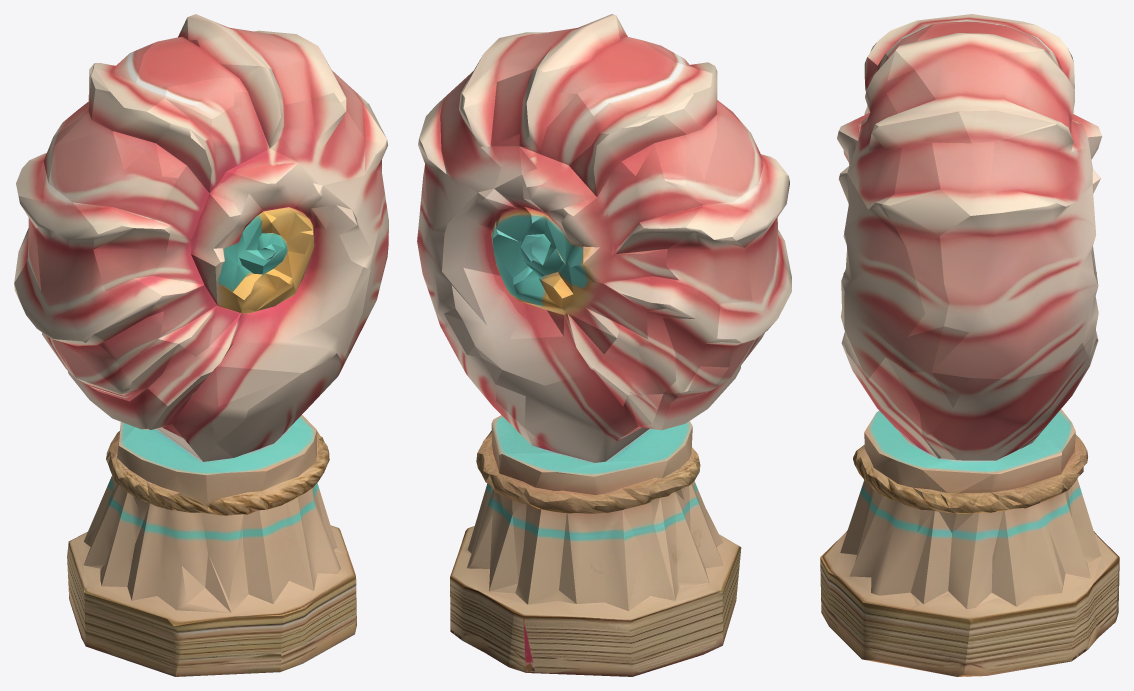
The model's file is statue-shell.glb.
The picture shows the model from 3 angles, left to right: view 1: azimuth 30°, elevation 25°; view 2: azimuth 150°, elevation 25°; view 3: azimuth 270°, elevation 25°; orthographic projection.
Bounding box in the file's own units: 1.14 × 1.9 × 0.8738.
1 material, 1 textured.
